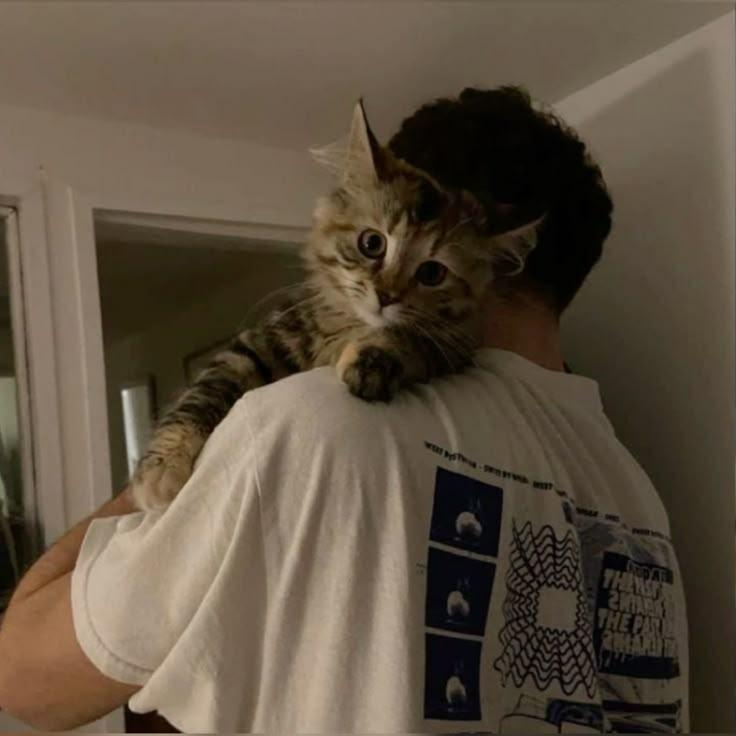kedo: (140, 110, 539, 511)
